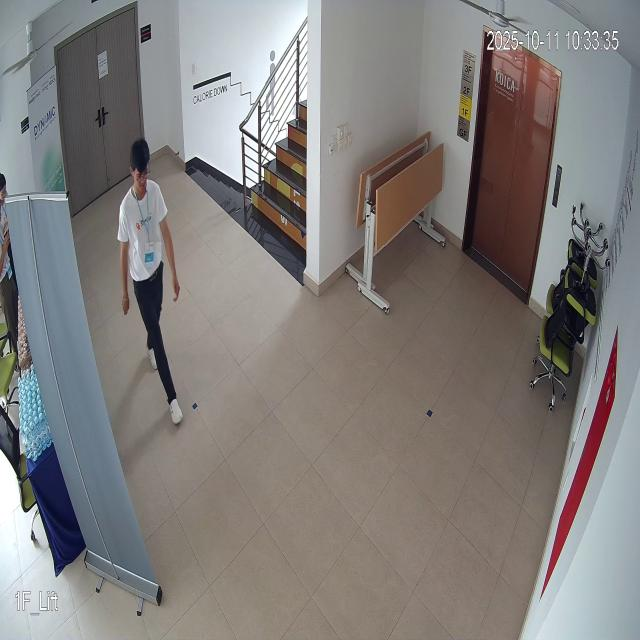face: (126, 128, 156, 202)
